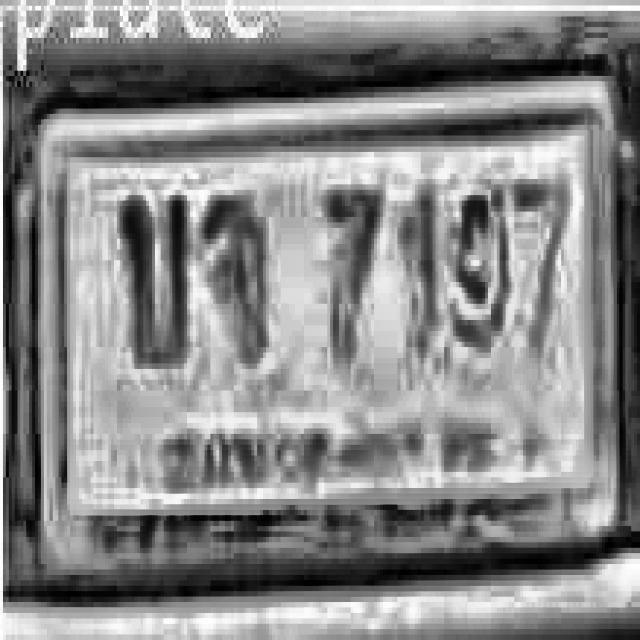license-plate: (36, 74, 619, 590)
